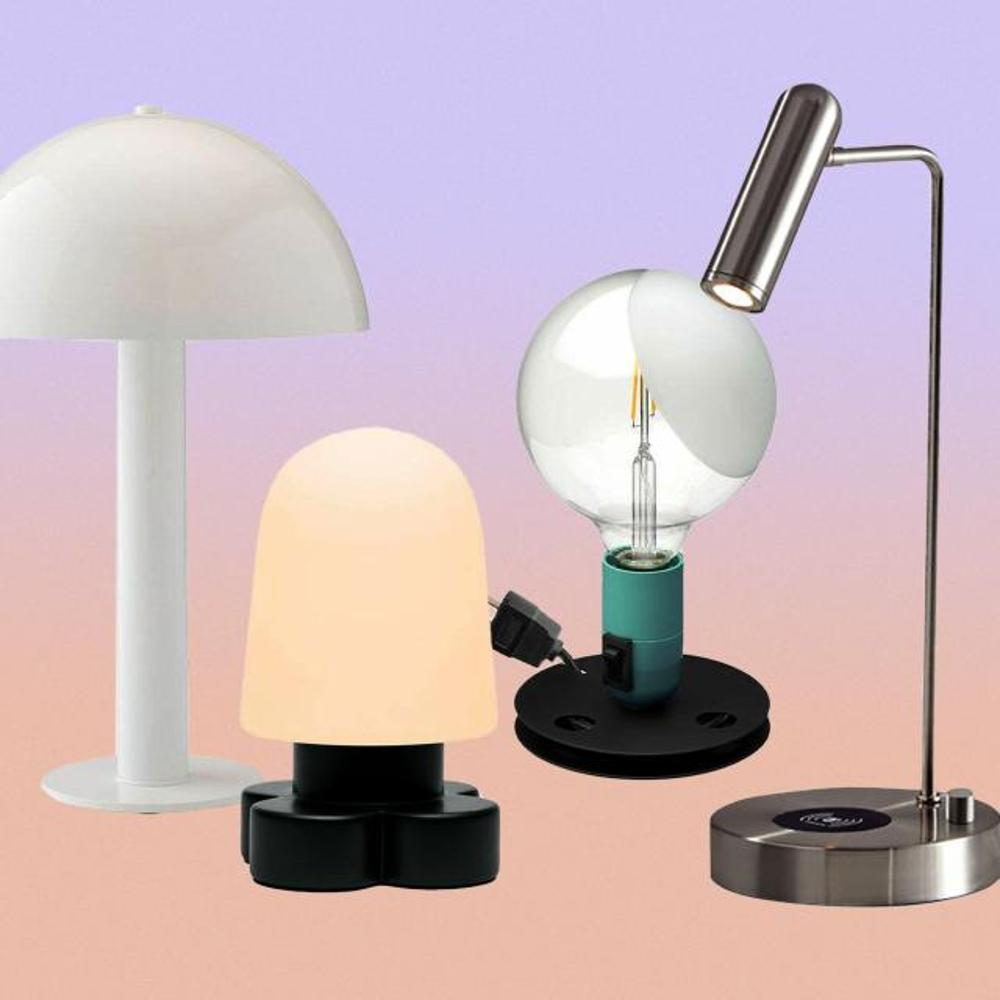shelf: (0, 95, 369, 814), (708, 69, 1000, 909), (518, 252, 777, 783), (236, 430, 508, 896)
